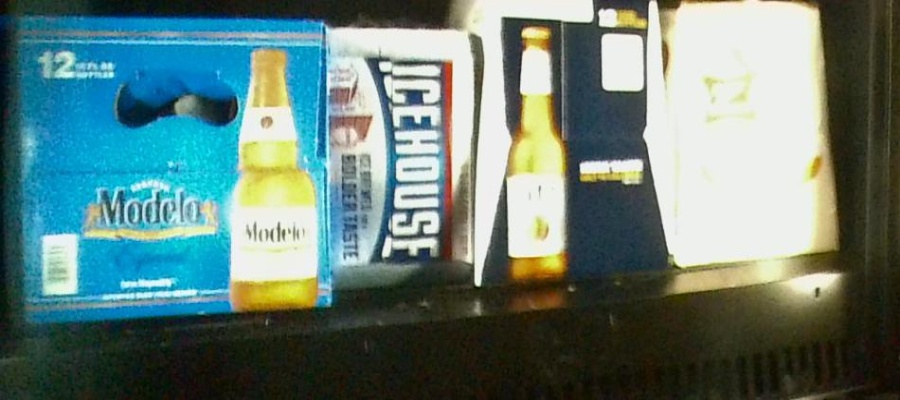bottle: (4, 17, 337, 316), (476, 1, 668, 276), (672, 2, 835, 258), (332, 24, 471, 294)
